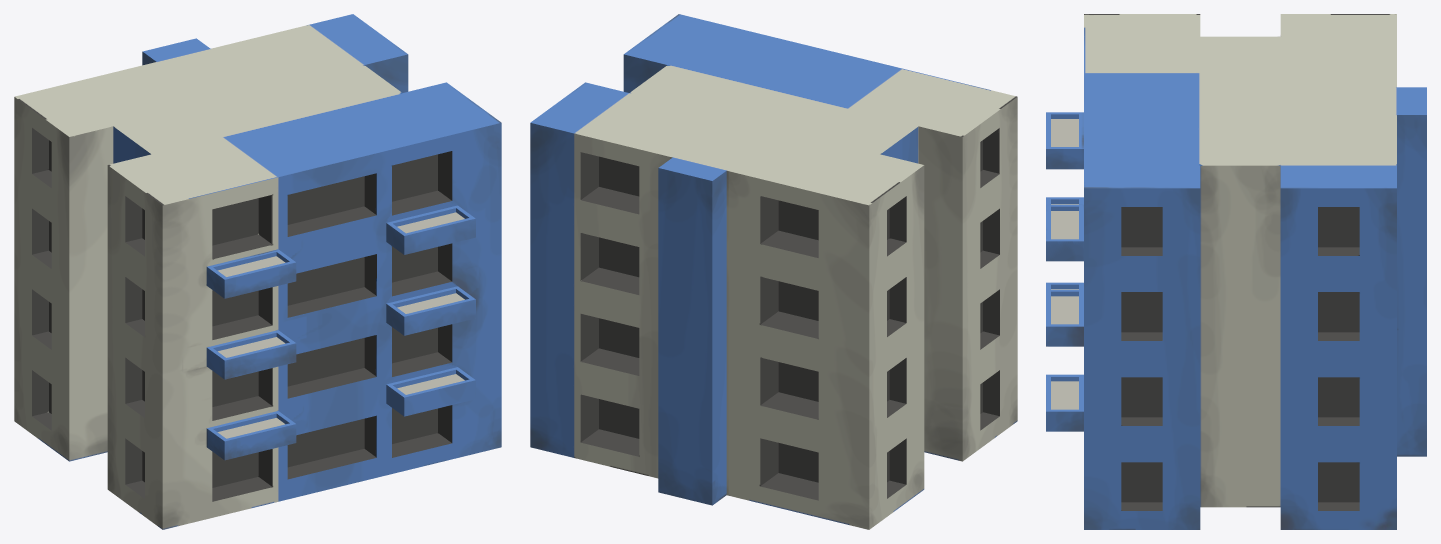
Rendered from Build6.fbx.
The picture shows the model from 3 angles, left to right: view 1: azimuth 30°, elevation 25°; view 2: azimuth 150°, elevation 25°; view 3: azimuth 270°, elevation 25°; orthographic projection. The views are drawn at different scales.
Visible parts, largest first — view 1: Build6; view 2: Build6; view 3: Build6.
Boxes of the visible parts, left/top/right/bottom form: Build6: left=14, top=14, right=501, bottom=529; Build6: left=530, top=14, right=1017, bottom=529; Build6: left=1046, top=14, right=1426, bottom=529.
Size of the model in its own units: 5400 by 4940 by 4989.
Materials: 1 (1 with a texture image).
